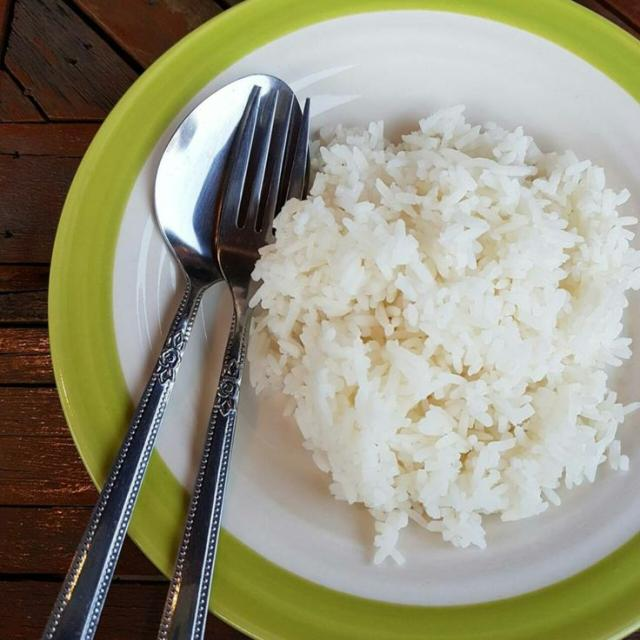rice: (250, 107, 639, 561)
